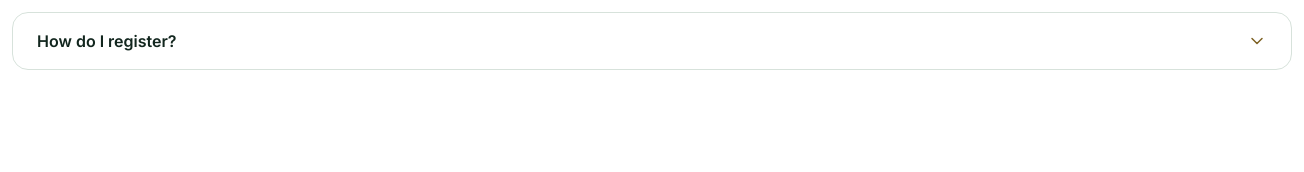
Scenario: accordion › toggles aria-expanded and the panel
The image size is (1304, 172).
Click the button "How do I register?" at (107, 41), box top-left (13, 13), bottom-right (1291, 69)
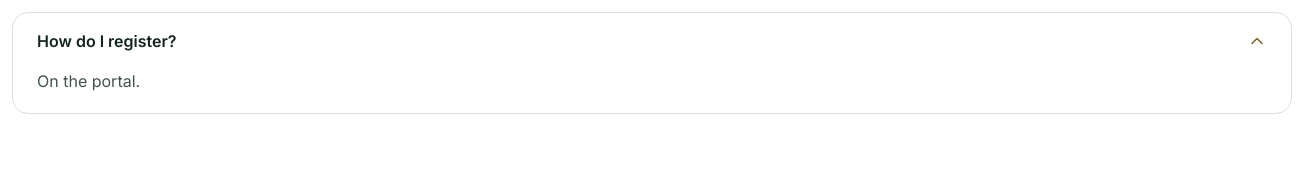
Result: the button "How do I register?" is expanded at top-left (13, 13), bottom-right (1291, 69)
